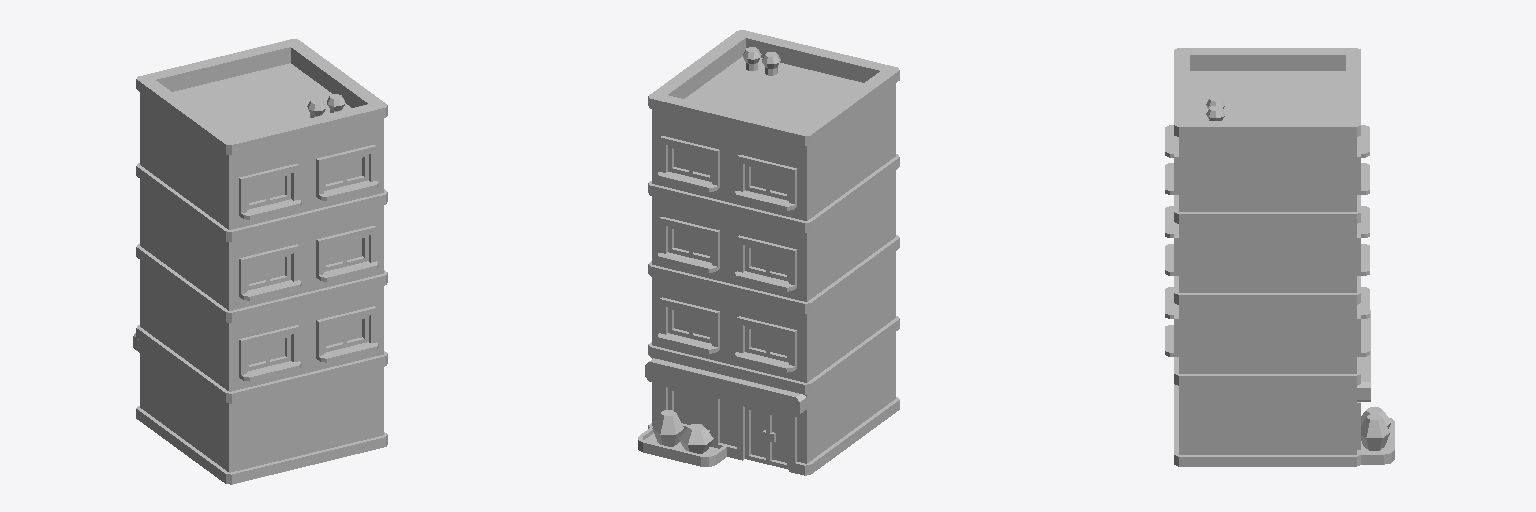
Rendered from commercial_building-f.obj.
3 views of the same model, side by side, from view 1: azimuth 30°, elevation 25°; view 2: azimuth 150°, elevation 25°; view 3: azimuth 270°, elevation 25° (orthographic).
Visible parts, largest first — view 1: building-f; view 2: building-f; view 3: building-f.
Part boxes in pixels (x1,y1,x2,y2): building-f: (133, 39, 387, 484); building-f: (638, 30, 899, 475); building-f: (1165, 48, 1394, 466).
Size of the model in its own units: 0.84 by 1.69 by 1.03.